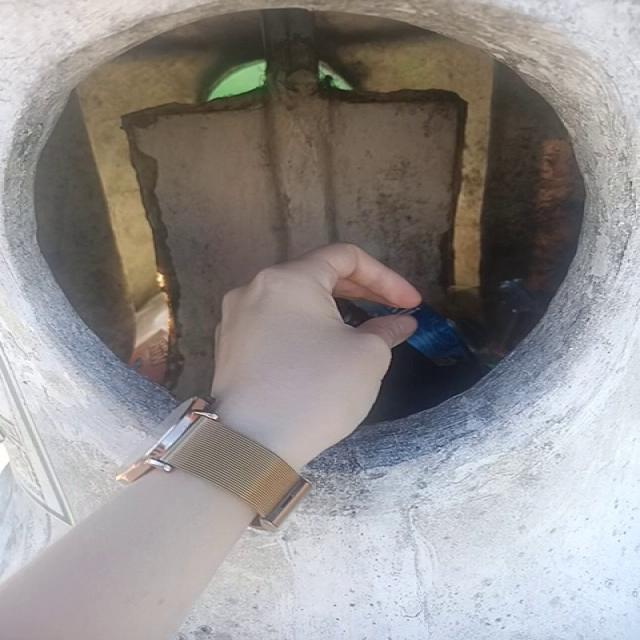glass: (364, 343, 483, 424), (337, 299, 371, 328)
